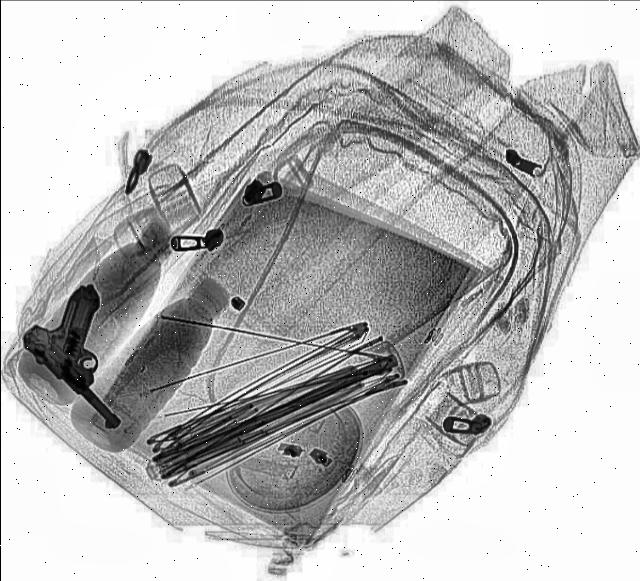Gun: (7, 280, 185, 430)
